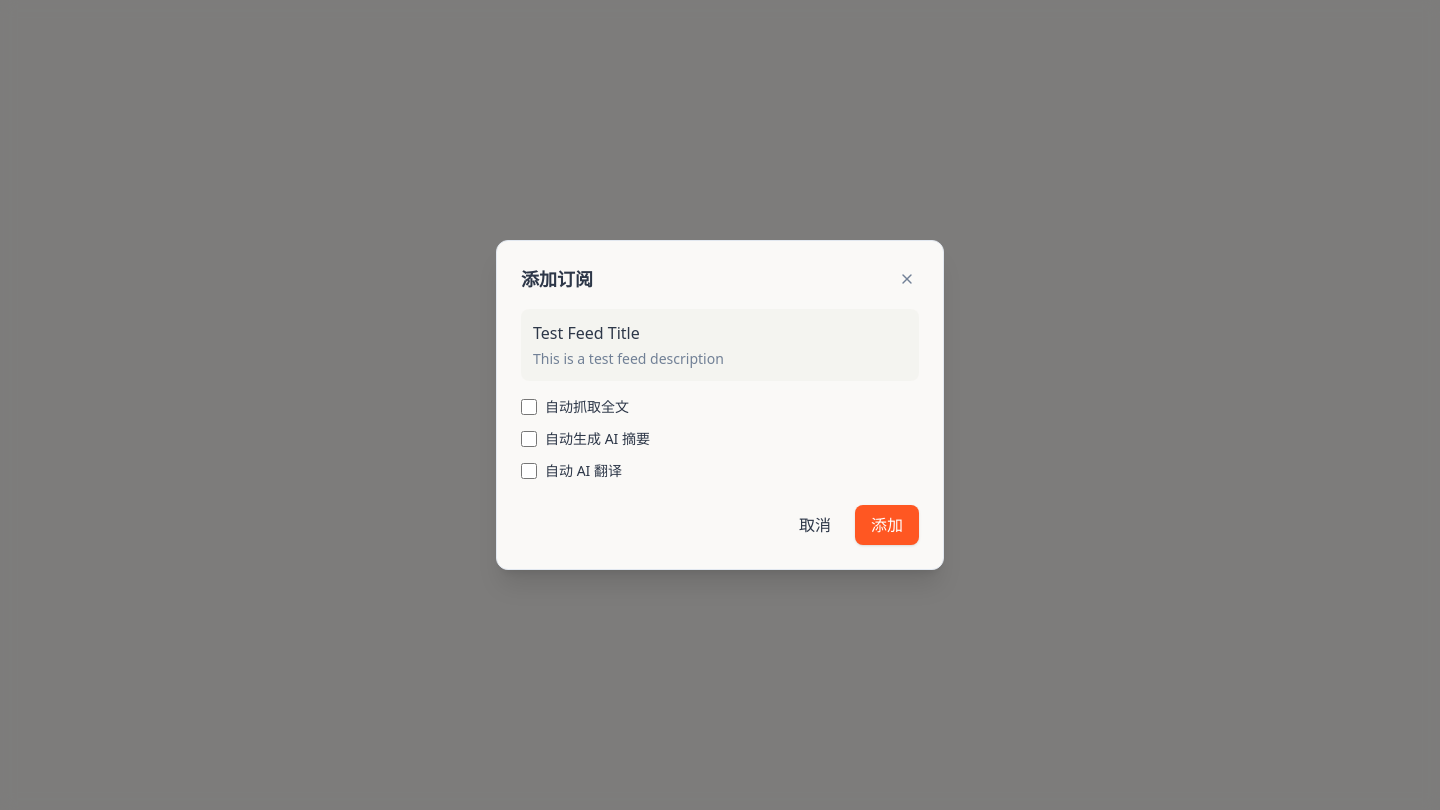
Scenario: AddFromDiscoverDialog › 复选框交互测试 › toggles AI translation checkbox
The width and height of the screenshot is (1440, 810).
Expected: the checkbox labelled "自动 AI 翻译" is not checked, [521,463,537,479]
Click the text "自动 AI 翻译" at (584, 471), box [545,461,622,481]
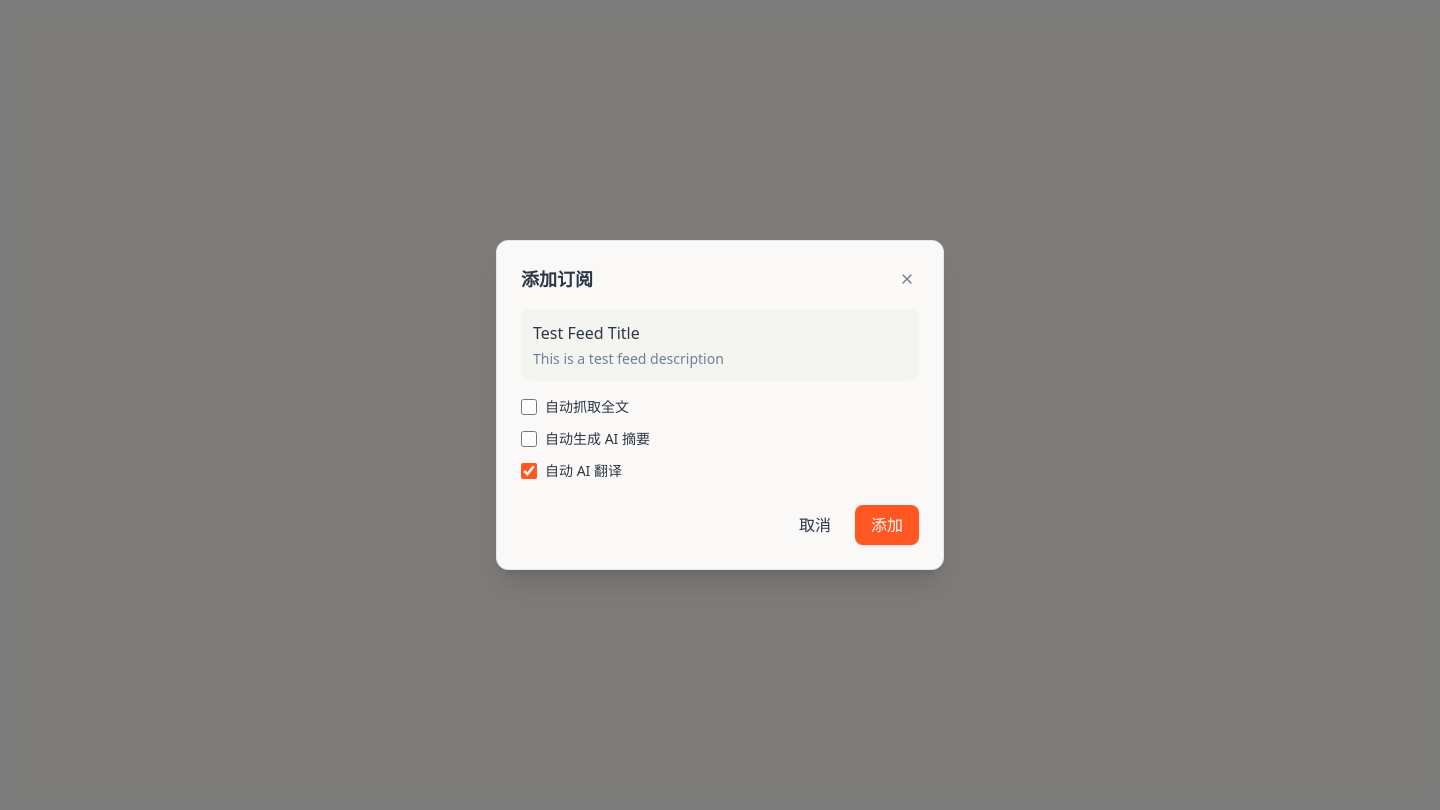
Now the checkbox labelled "自动 AI 翻译" is checked, box [521,463,537,479]
